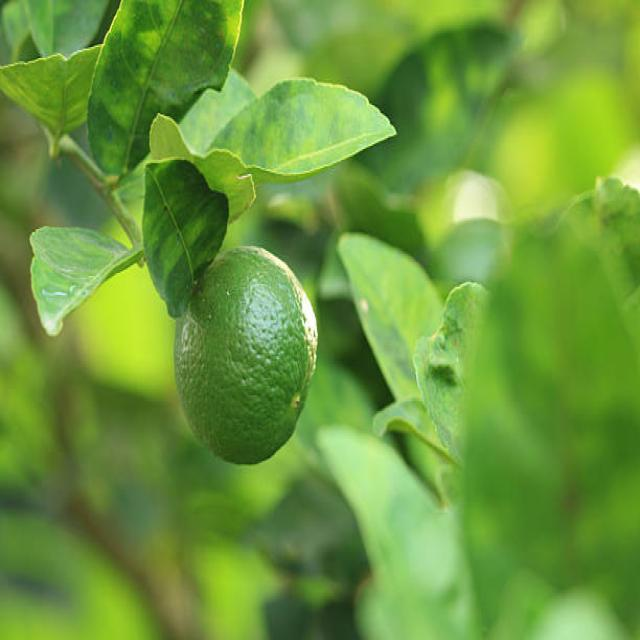Unripe: (172, 246, 318, 464)
